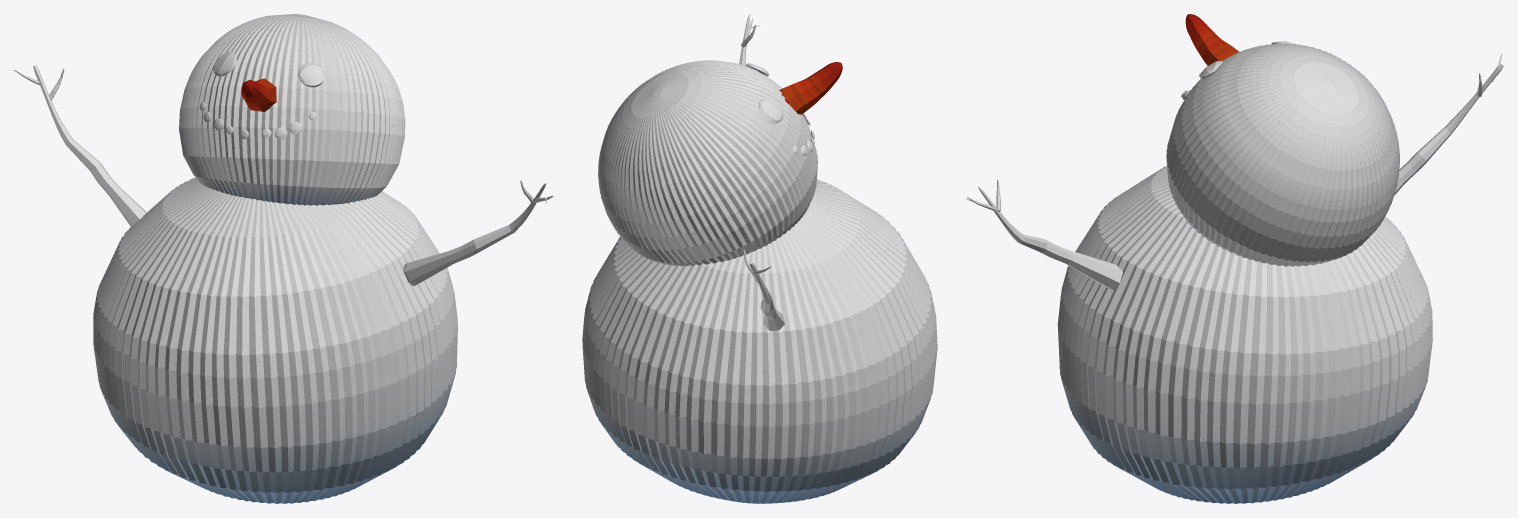
File: Snowman-assembled.fbx
3 views of the same model, side by side, from view 1: azimuth 30°, elevation 25°; view 2: azimuth 150°, elevation 25°; view 3: azimuth 270°, elevation 25° (orthographic). The views are drawn at different scales.
Visible parts, largest first — view 1: Body, Head, Arm-stick_R, Arm-stick_L, Face, Carrot; view 2: Body, Head, Carrot, Arm-stick_L, Face; view 3: Body, Head, Arm-stick_R, Arm-stick_L, Carrot.
Part boxes in pixels (left/top/right/bottom): Body: left=93, top=177, right=457, bottom=503; Head: left=179, top=14, right=405, bottom=205; Arm-stick_R: left=403, top=180, right=553, bottom=285; Arm-stick_L: left=14, top=65, right=146, bottom=226; Face: left=199, top=51, right=324, bottom=139; Carrot: left=241, top=78, right=276, bottom=111; Body: left=582, top=179, right=937, bottom=503; Head: left=598, top=60, right=817, bottom=266; Carrot: left=779, top=62, right=842, bottom=114; Arm-stick_L: left=743, top=249, right=784, bottom=331; Face: left=745, top=63, right=814, bottom=155; Body: left=1057, top=166, right=1432, bottom=503; Head: left=1166, top=43, right=1399, bottom=266; Arm-stick_R: left=966, top=179, right=1122, bottom=289; Arm-stick_L: left=1394, top=54, right=1503, bottom=195; Carrot: left=1185, top=14, right=1238, bottom=65.
Bounding box in the file's own units: 8.9 × 11.6 × 12.77.
